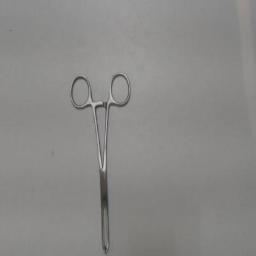Allis Tissue Forceps: (67, 64, 137, 254)
